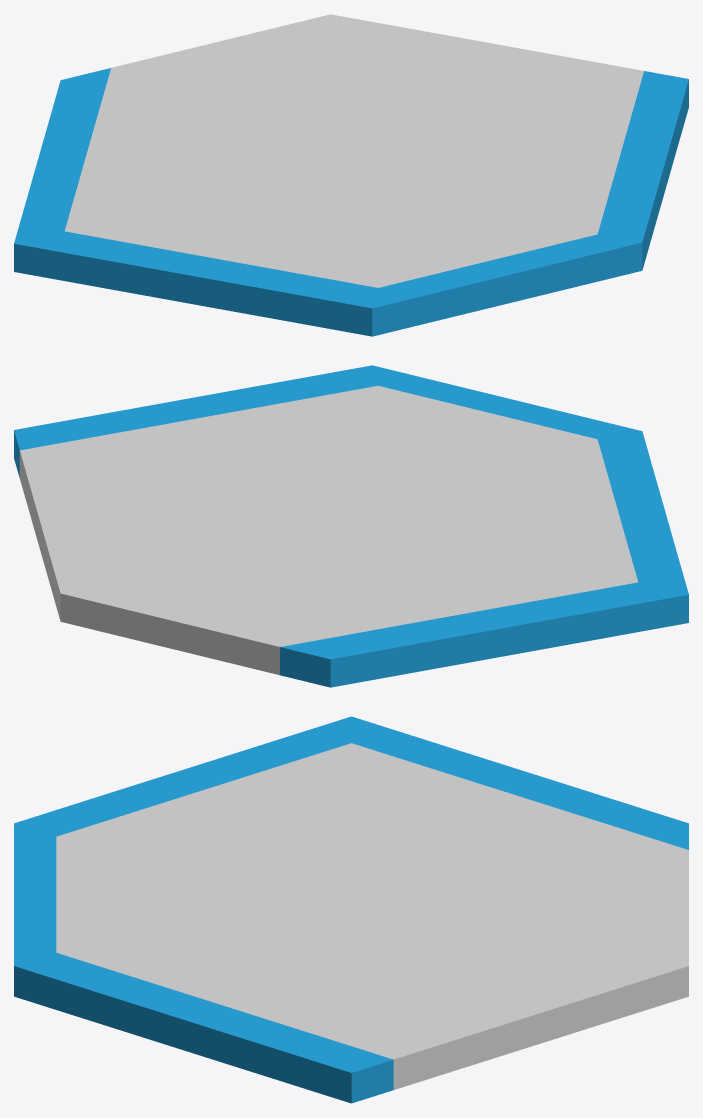
3 views of the same model, one above another, from view 1: azimuth 30°, elevation 25°; view 2: azimuth 150°, elevation 25°; view 3: azimuth 270°, elevation 25° (orthographic). The views are drawn at different scales.
Parts seen in each view (by area): view 1: Hexagon, SWx, Sx, SE, NW.001; view 2: Hexagon, NW.001, SE, SWx, Sx; view 3: Hexagon, SE, NW.001, SWx, Sx.
Part boxes in pixels (x1,y1,x2,y2): Hexagon: (65,14,643,287); SWx: (14,231,377,336); Sx: (372,234,642,336); SE: (598,71,688,269); NW.001: (14,68,110,243); Hexagon: (19,386,637,675); NW.001: (280,582,688,687); SE: (14,365,377,477); SWx: (597,431,688,594); Sx: (372,365,641,439); Hexagon: (56,743,688,1089); SE: (14,952,393,1103); NW.001: (351,716,688,849); SWx: (14,716,351,836); Sx: (14,823,56,965).
Bounding box in the file's own units: 5 × 4 × 0.2.
